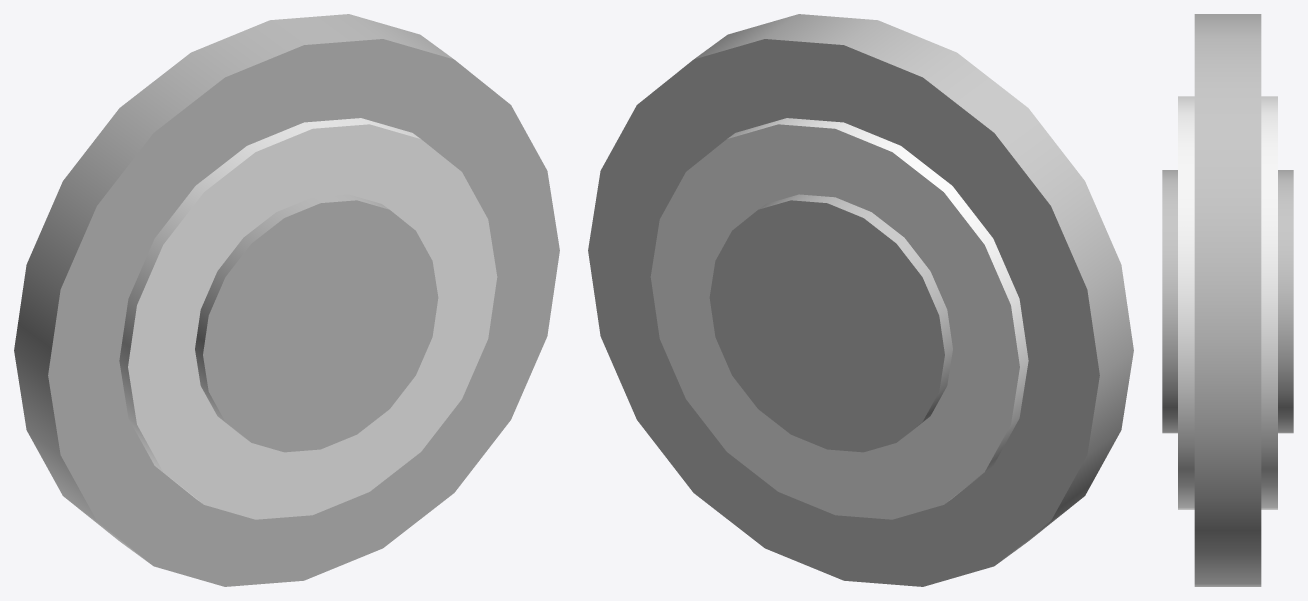
File: Shooting Target.fbx
The picture shows the model from 3 angles, left to right: view 1: azimuth 30°, elevation 25°; view 2: azimuth 150°, elevation 25°; view 3: azimuth 270°, elevation 25°; orthographic projection. The views are drawn at different scales.
Parts seen in each view (by area): view 1: pCylinder4; view 2: pCylinder4; view 3: pCylinder4.
Boxes of the visible parts, bbox=[...] form: pCylinder4: bbox=[14, 14, 559, 586]; pCylinder4: bbox=[588, 14, 1133, 586]; pCylinder4: bbox=[1162, 14, 1293, 586].
Size of the model in its own units: 3.32 by 3.32 by 0.7565.
